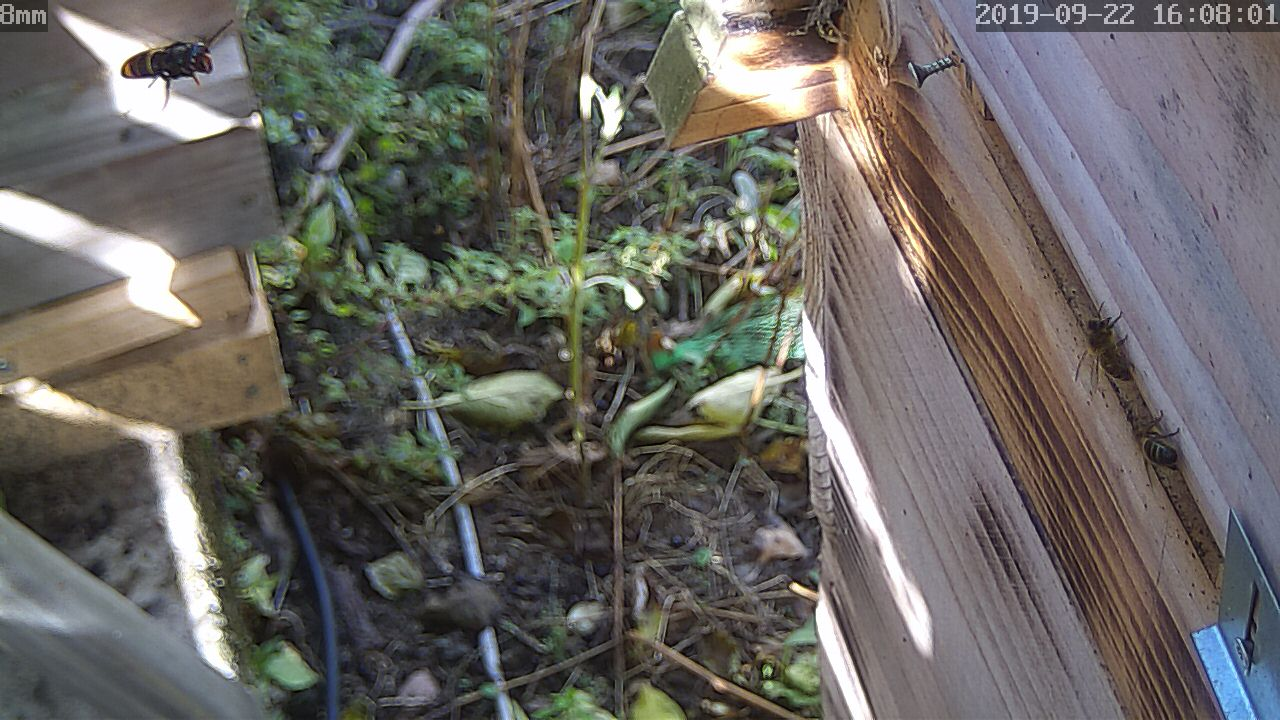bee: (1078, 311, 1133, 387), (1136, 422, 1188, 477)
hornet: (96, 30, 228, 97)
